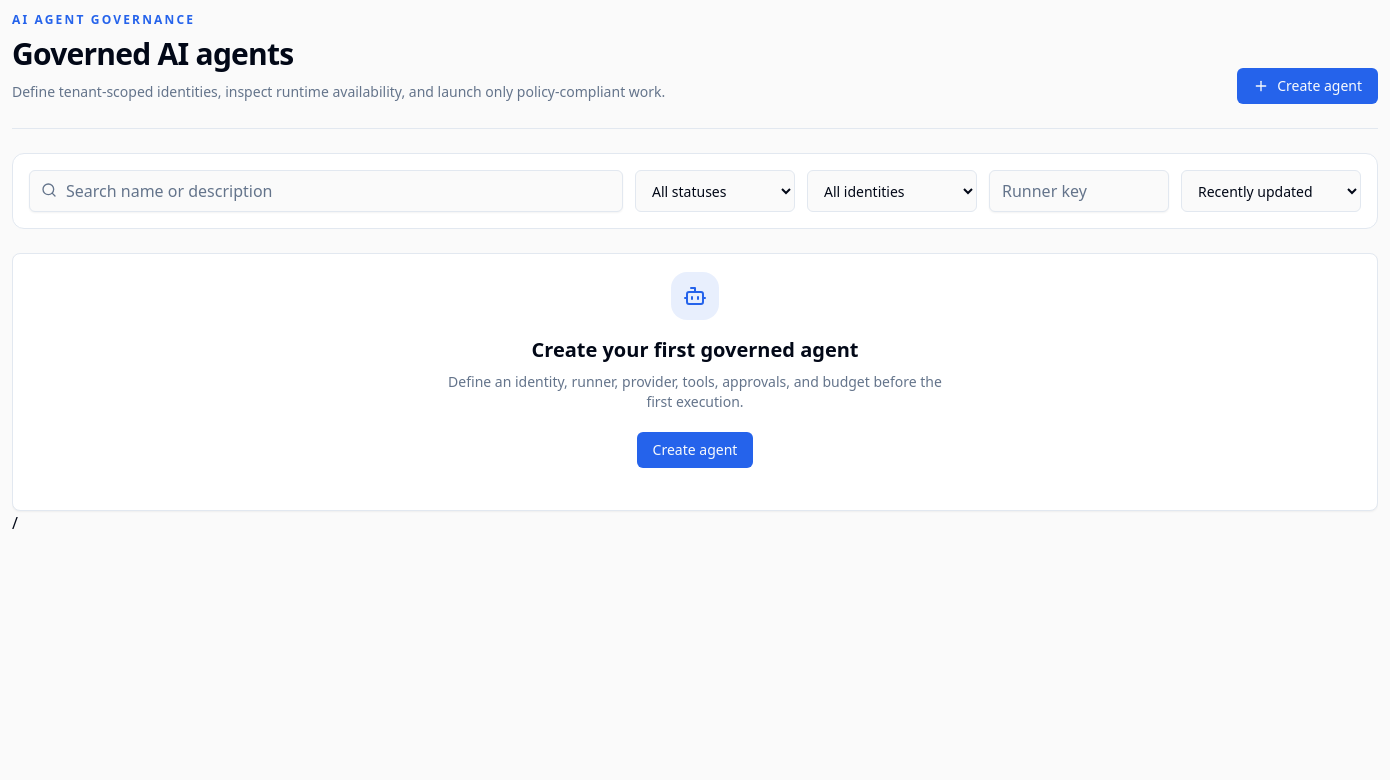
Test: AgentListPage › renders onboarding when the catalog is empty
This screenshot has width=1390, height=780.
Check: the heading "Create your first governed agent" is shown, box [532,336,859,364]
Check: the text "Define an identity, runner, provider, tools, approvals, and budget before the first execution." is shown, box [448,372,942,411]
Click the button "Create agent" in the row of "Governed AI agents" at {"x": 1308, "y": 86}, box [1237,68,1378,104]
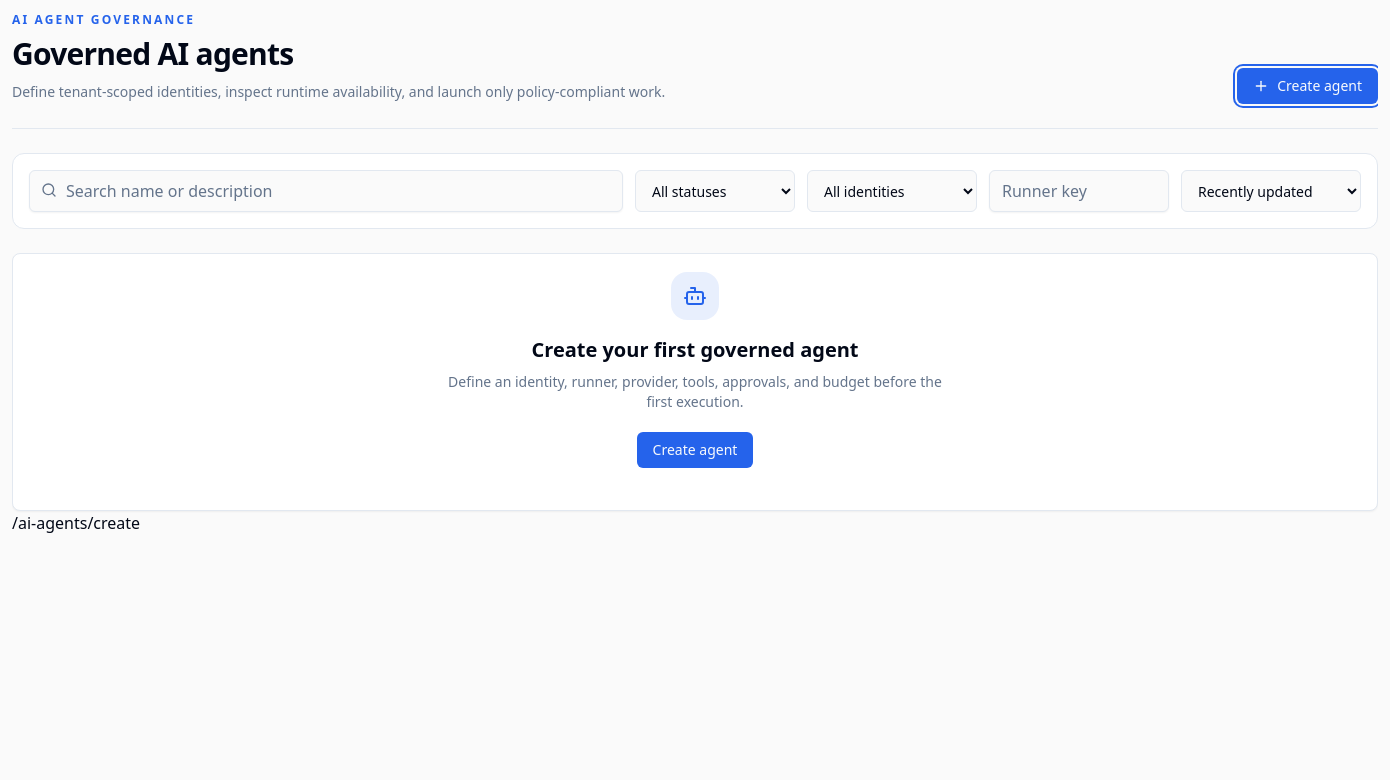
Check: the text with test id "current-path" reads "/ai-agents/create", box [12,512,140,534]
